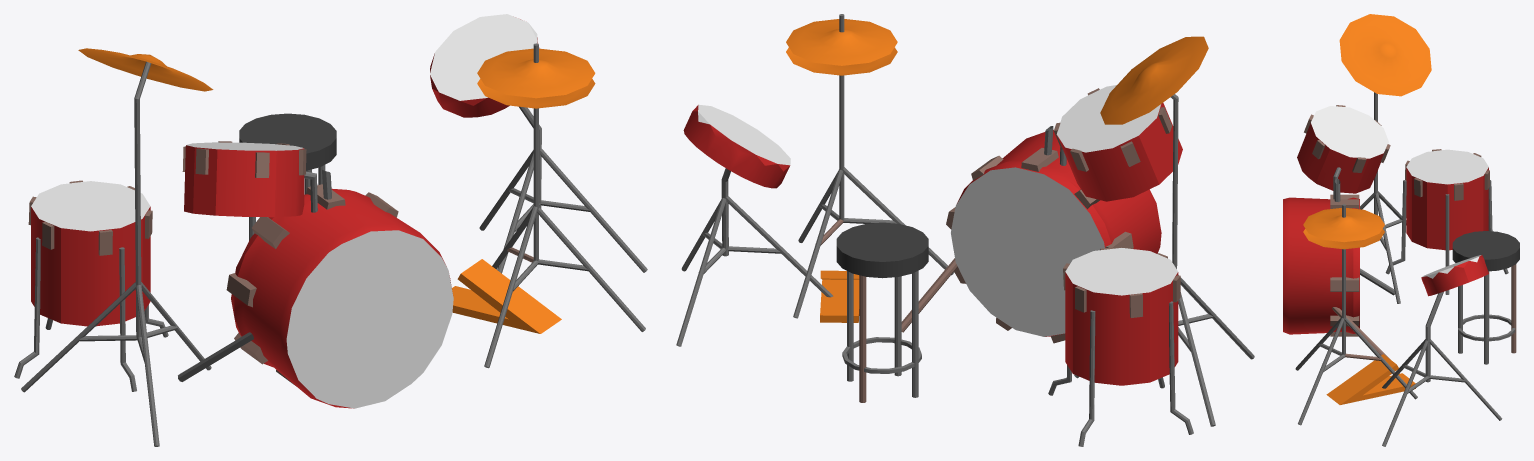
File: Concert.fbx
The picture shows the model from 3 angles, left to right: view 1: azimuth 30°, elevation 25°; view 2: azimuth 150°, elevation 25°; view 3: azimuth 270°, elevation 25°; orthographic projection. The views are drawn at different scales.
Parts seen in each view (by area): view 1: Concert; view 2: Concert; view 3: Concert.
Part boxes in pixels (x1=…): Concert: x1=14, y1=14, x2=647, y2=446; Concert: x1=676, y1=14, x2=1254, y2=446; Concert: x1=1283, y1=14, x2=1519, y2=446.
Size of the model in its own units: 509 by 297 by 253.
